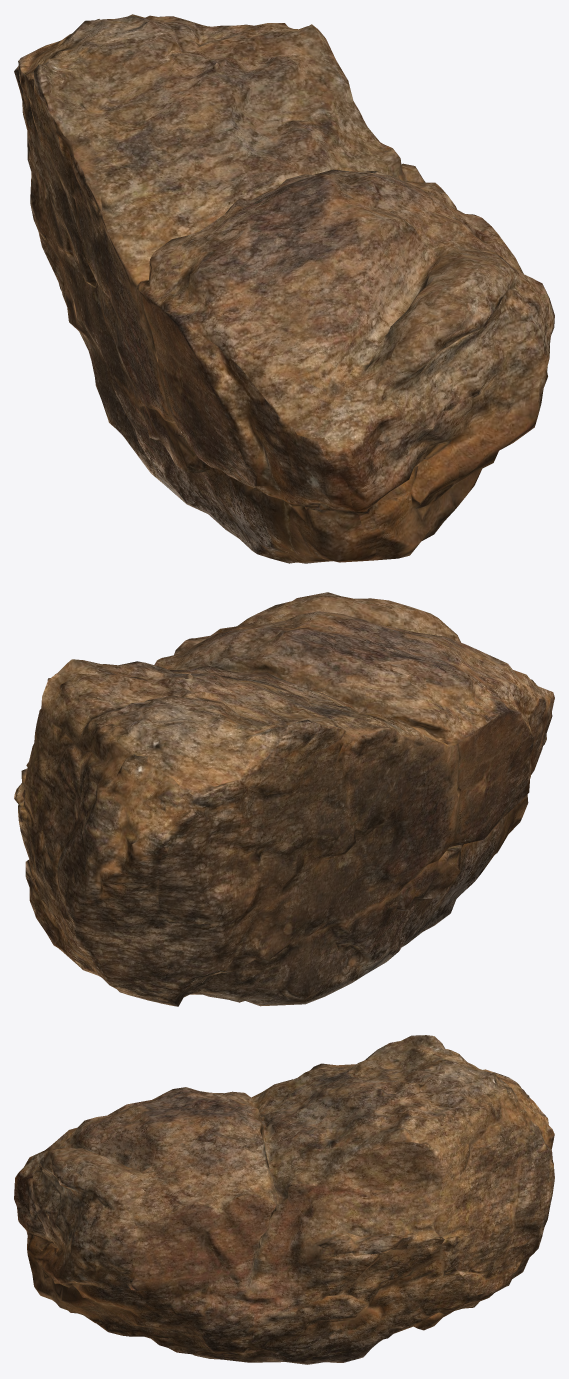
The model's file is bould5.glb.
3 renders of one model, top to bottom at view 1: azimuth 30°, elevation 25°; view 2: azimuth 150°, elevation 25°; view 3: azimuth 270°, elevation 25°, orthographic. The views are drawn at different scales.
Parts seen in each view (by area): view 1: bould5; view 2: bould5; view 3: bould5.
Boxes of the visible parts, <box> form: bould5: <box>14,14,554,563</box>; bould5: <box>14,592,554,1006</box>; bould5: <box>14,1035,554,1364</box>.
Bounding box in the file's own units: 0.6735 × 0.6452 × 1.21.
1 material, 1 textured.
